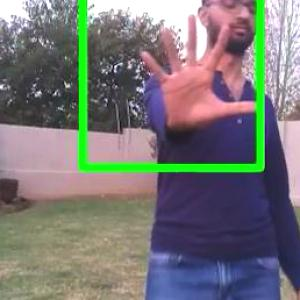follow_hand: (133, 8, 264, 130)
